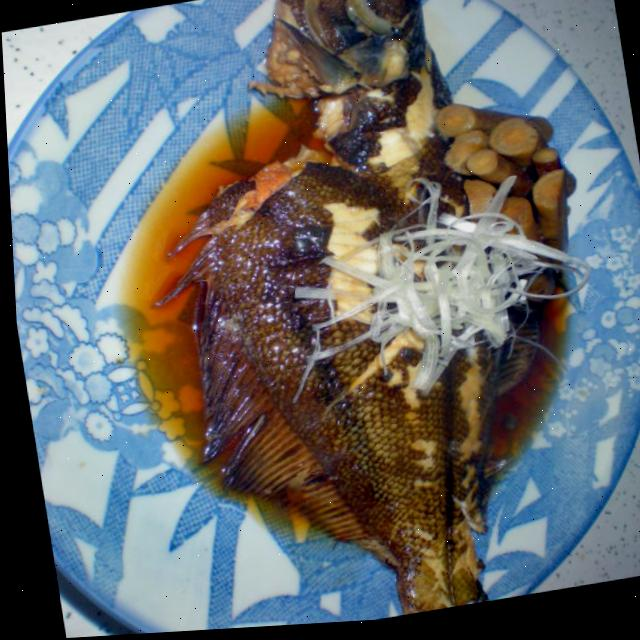熟制海鲜: (54, 0, 565, 637)
